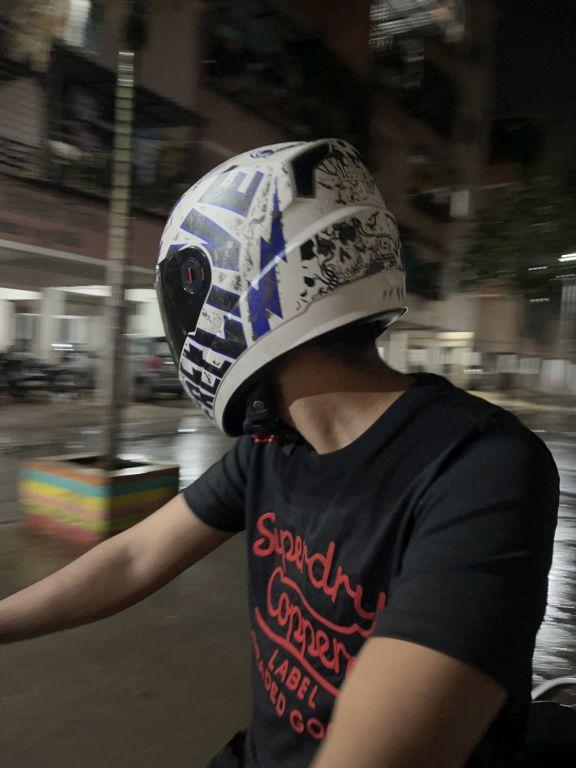helmet: (142, 124, 416, 455)
